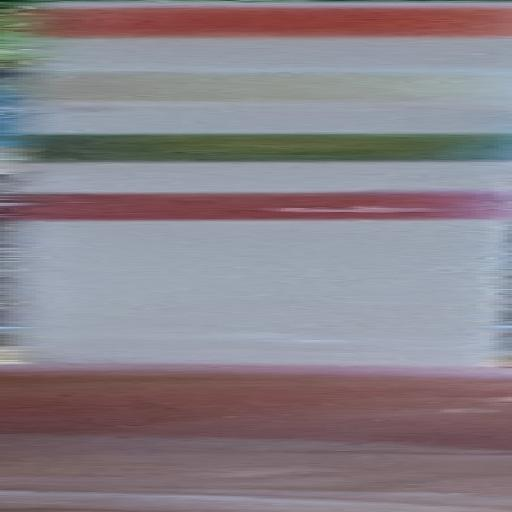pads: (0, 6, 512, 36), (0, 190, 512, 220), (0, 71, 512, 100), (0, 133, 512, 162)
